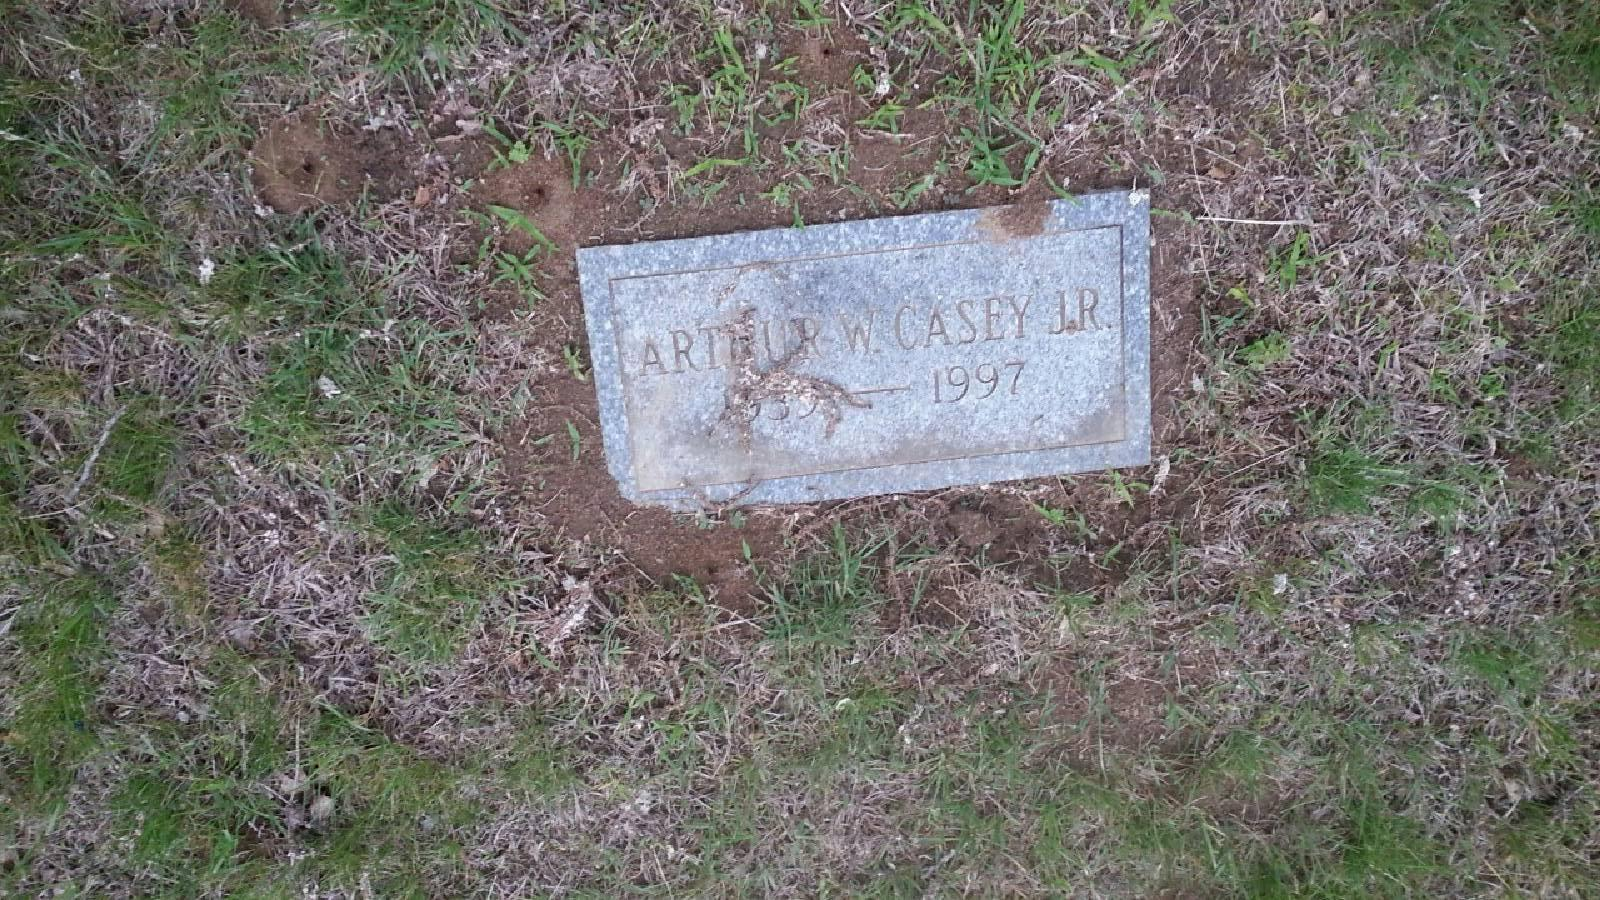flat: (560, 188, 1162, 513)
